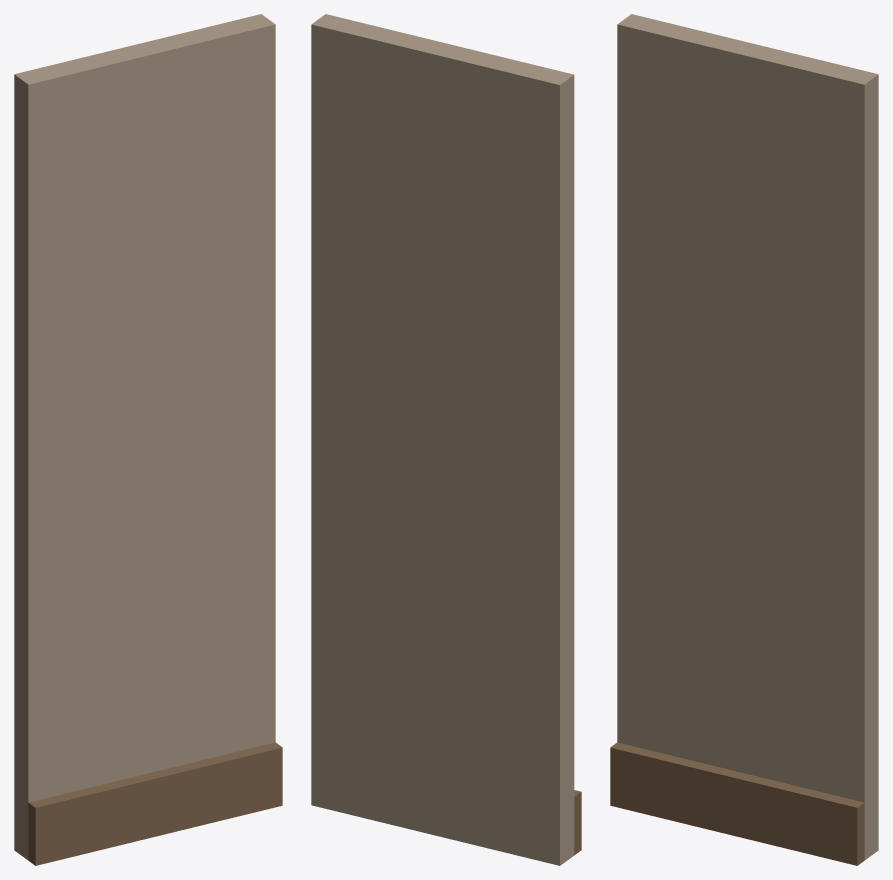
File: Mesh_WallBaseboard_B1.fbx
3 renders of one model, left to right at view 1: azimuth 30°, elevation 25°; view 2: azimuth 150°, elevation 25°; view 3: azimuth 330°, elevation 25°, orthographic.
Visible parts, largest first — view 1: Mesh_WallBaseboard_B1; view 2: Mesh_WallBaseboard_B1; view 3: Mesh_WallBaseboard_B1.
Part boxes in pixels (x1,y1,x2,y2): Mesh_WallBaseboard_B1: (14, 14, 282, 865); Mesh_WallBaseboard_B1: (311, 14, 581, 865); Mesh_WallBaseboard_B1: (610, 14, 878, 865).
Bounding box in the file's own units: 1 × 3 × 0.15.
